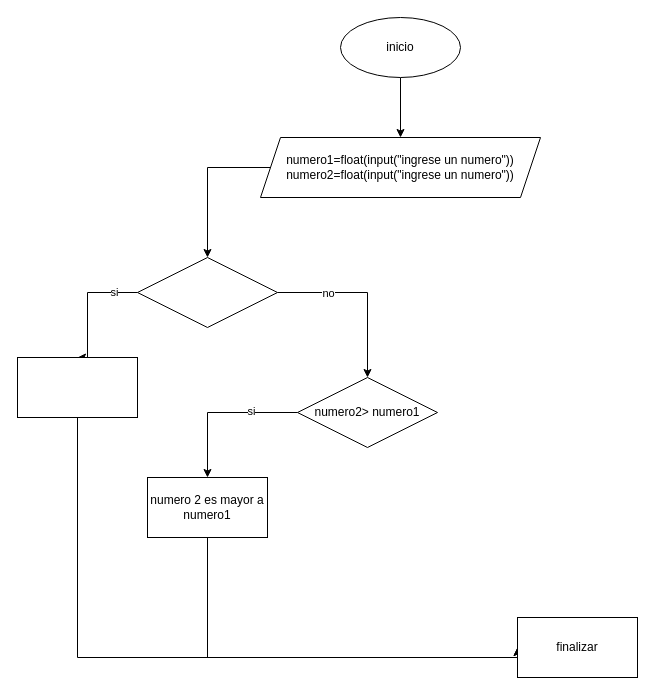
The diagram is 655 pixels wide and 695 high, and some of its shapes have lost their labels. Each missing label, with the centre of its shape:
"numero1 es mayor a numero2" goes at point (77, 387).
"numero1> numero 2" goes at point (207, 292).
